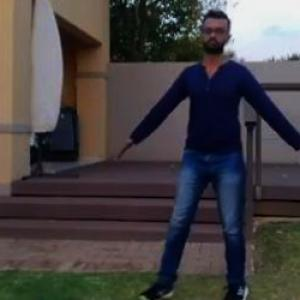land: (117, 18, 299, 299)
